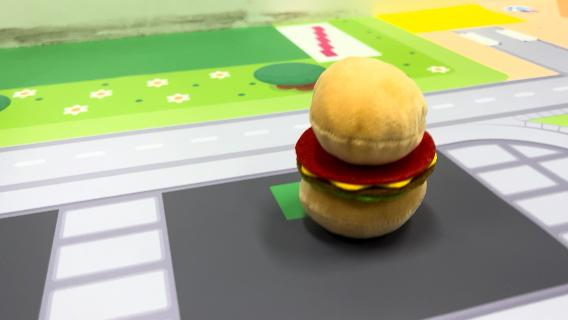burger: (291, 53, 441, 241)
